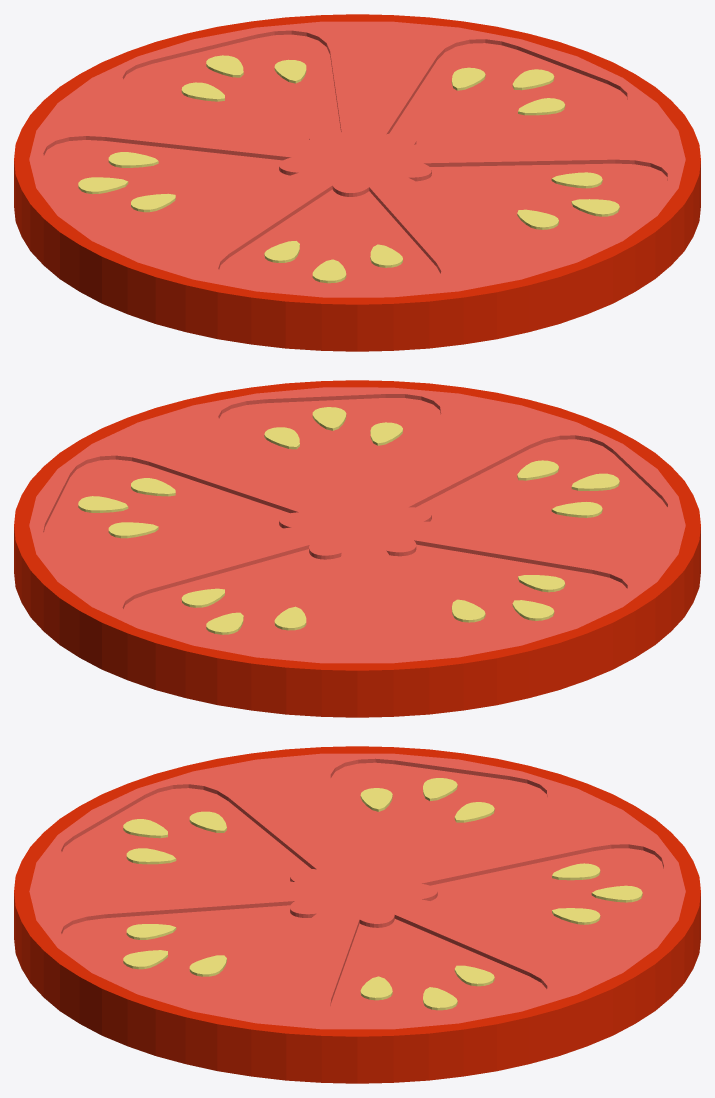
The model's file is Sliced tomato.fbx.
The picture shows the model from 3 angles, top to bottom: view 1: azimuth 30°, elevation 25°; view 2: azimuth 150°, elevation 25°; view 3: azimuth 270°, elevation 25°; orthographic projection.
Visible parts, largest first — view 1: Sliced tomato; view 2: Sliced tomato; view 3: Sliced tomato.
Part boxes in pixels (x1,y1,x2,y2): Sliced tomato: (14, 14, 700, 351); Sliced tomato: (14, 380, 700, 717); Sliced tomato: (14, 746, 700, 1083).
Bounding box in the file's own units: 15.91 × 1.2 × 15.9.
